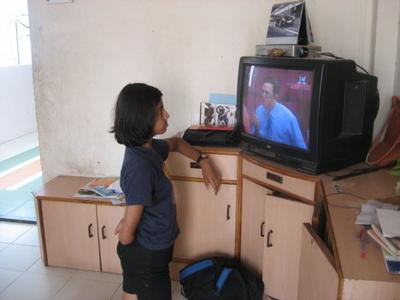person: (115, 82, 223, 300)
